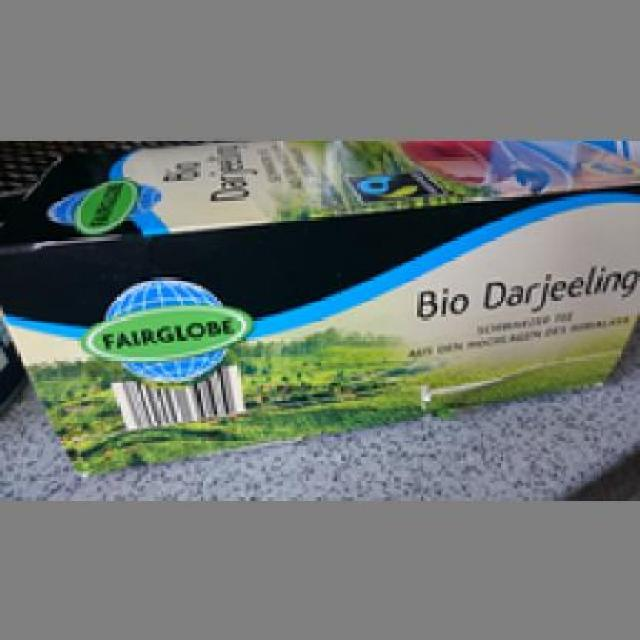Tea: (0, 140, 637, 480)
